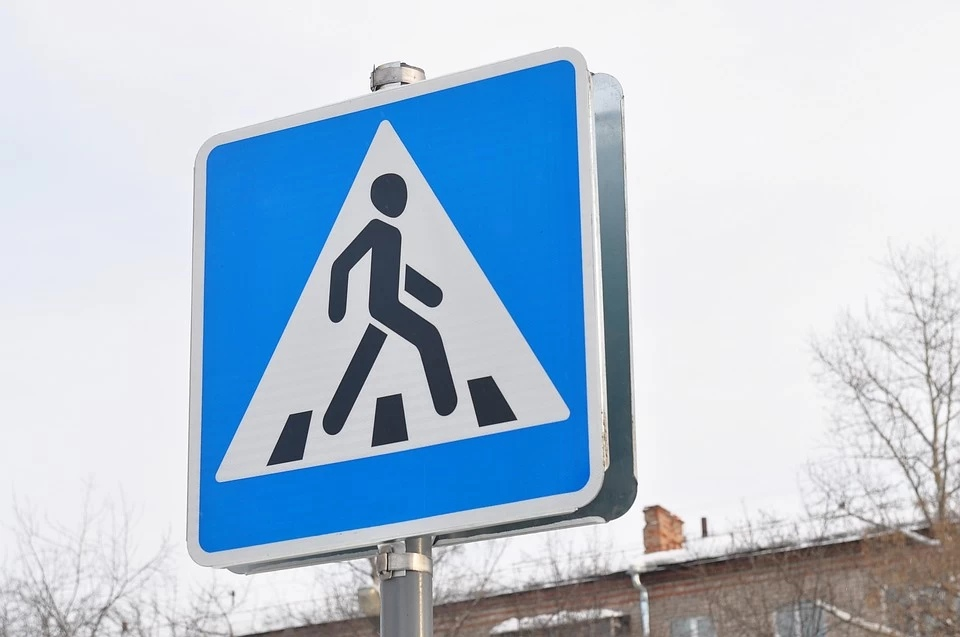yaya_gecidi: (184, 42, 639, 570)
